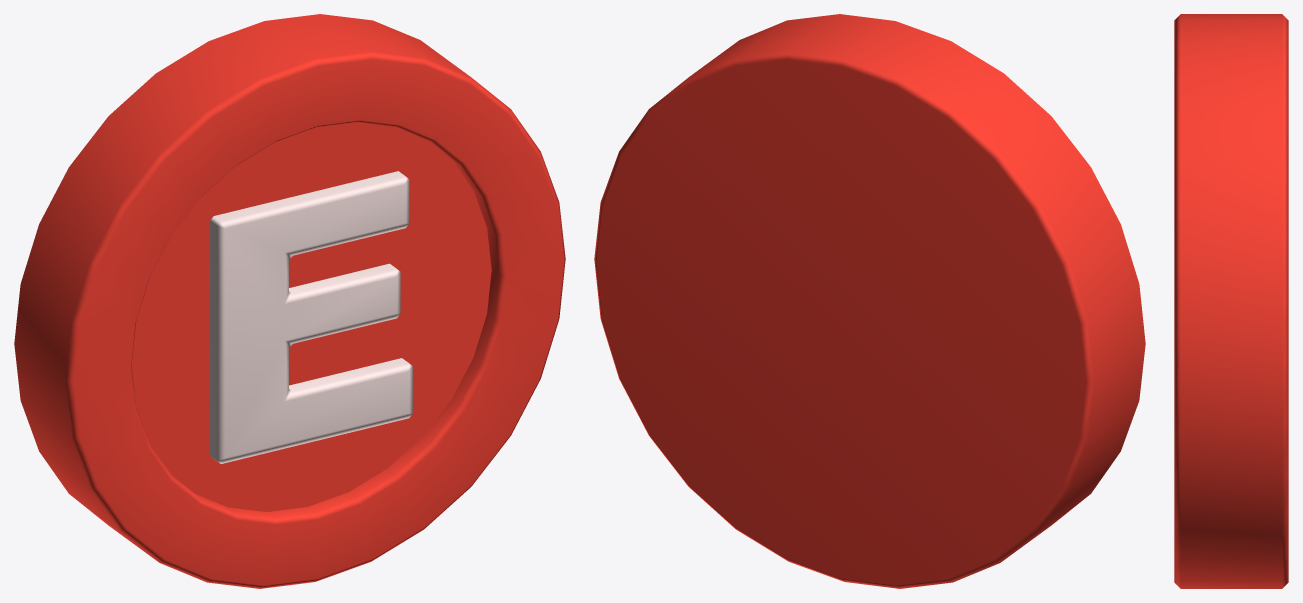
The model's file is Store_15_Vitamin_E_1.glb.
3 renders of one model, left to right at view 1: azimuth 30°, elevation 25°; view 2: azimuth 150°, elevation 25°; view 3: azimuth 270°, elevation 25°, orthographic.
Visible parts, largest first — view 1: Store_15_Vitamin_E_1; view 2: Store_15_Vitamin_E_1; view 3: Store_15_Vitamin_E_1.
Part boxes in pixels (bbox=[...]): Store_15_Vitamin_E_1: bbox=[14, 14, 565, 588]; Store_15_Vitamin_E_1: bbox=[594, 14, 1145, 588]; Store_15_Vitamin_E_1: bbox=[1174, 14, 1288, 588].
Size of the model in its own units: 1.92 by 1.92 by 0.3815.
1 material, 1 textured.
